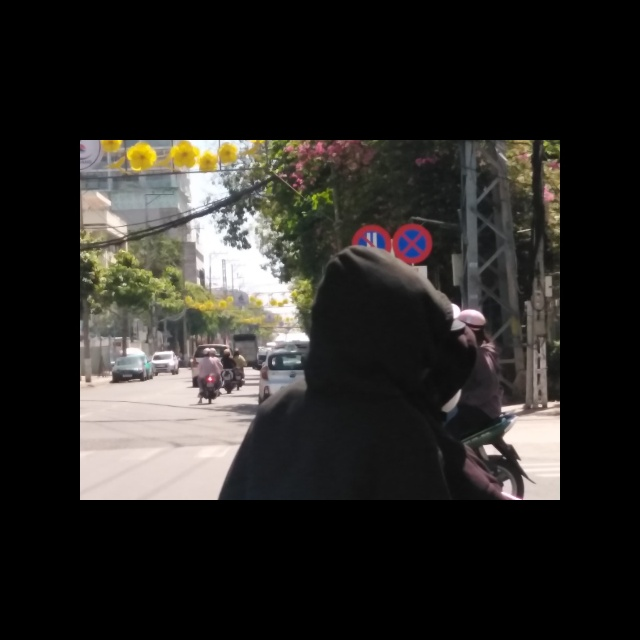Cấm dừng xe và đỗ xe: (392, 223, 432, 263)
Cấm đỗ xe ngày chẵn: (350, 225, 392, 246)
